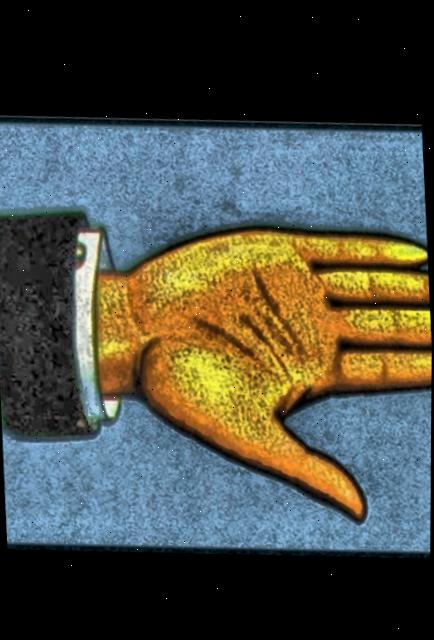La Mano: (0, 102, 433, 564)
